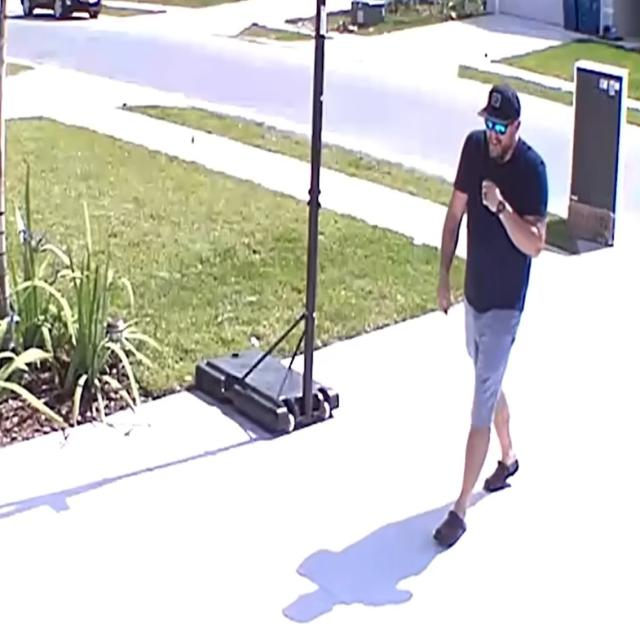standing: (434, 86, 548, 546)
